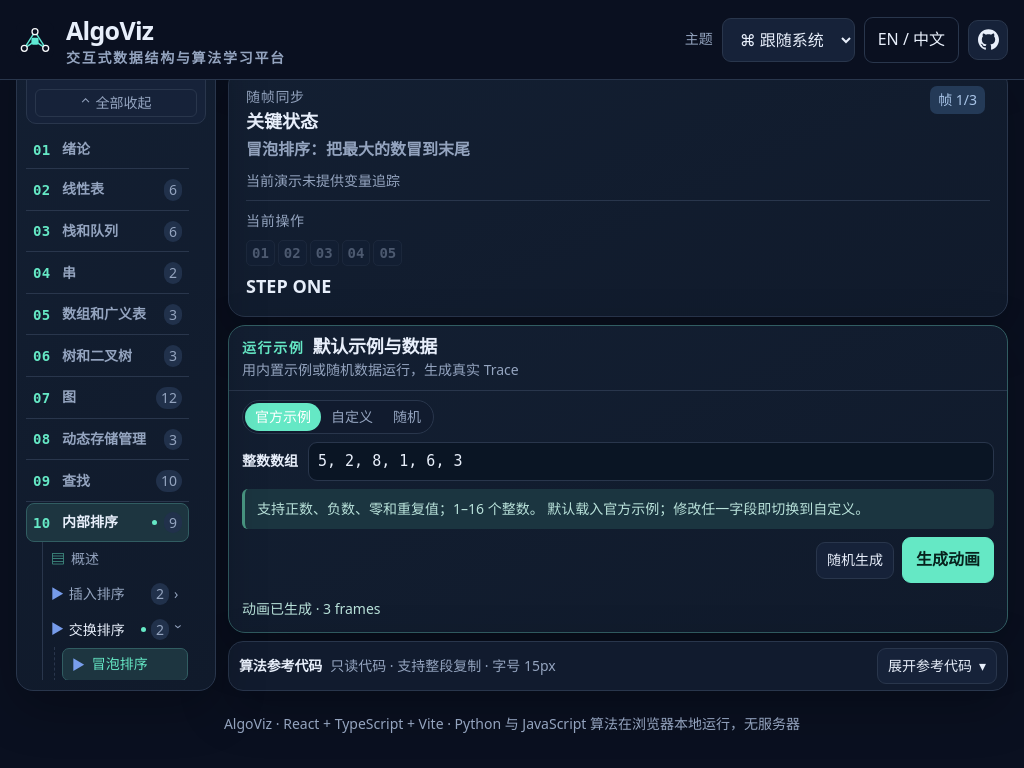
Test: CORE-REFINE-01 shell integration › shows only the trilingual reference panel in the advanced area
The image size is (1024, 768).
(page scrolled)
Click the button with test id "workspace-tabs-toggle". click: (937, 666)
box: [877,648,997,684]
(page scrolled)
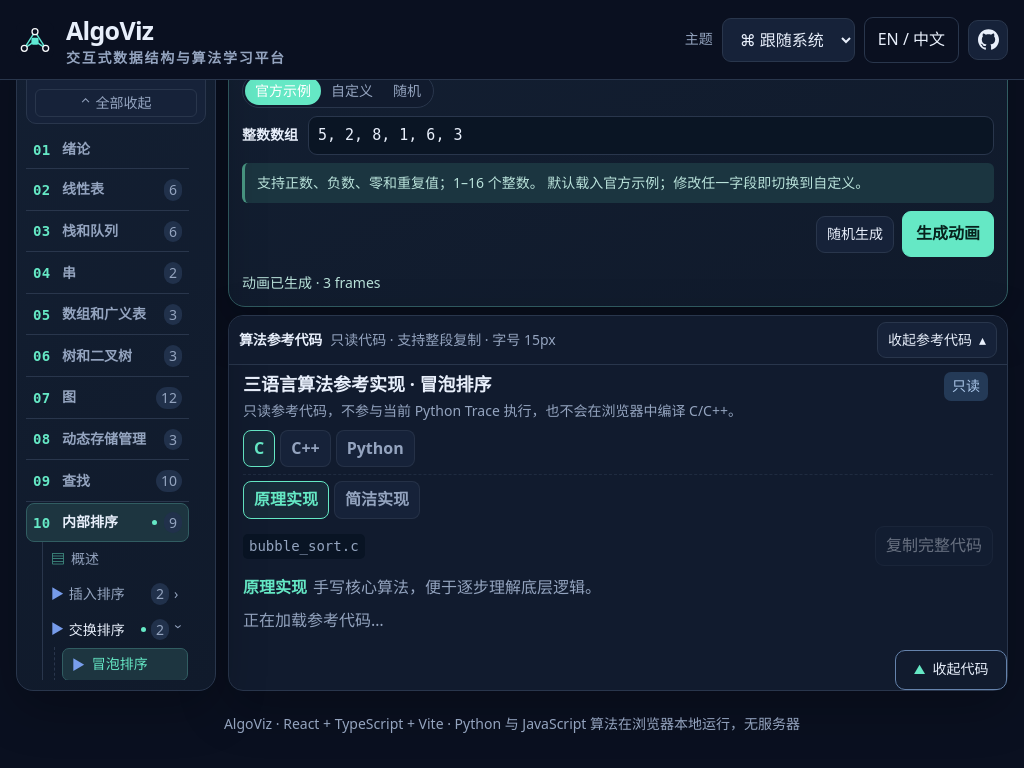
Check: the element with test id "reference-code-panel" is shown, box [243,369,993,634]
Check: the tab with test id "reference-lang-c" is shown, box [243,430,275,467]
Check: the tab with test id "reference-lang-cpp" is shown
Click the tab with test id "reference-lang-cpp". click: (305, 448)
box: [280,430,331,467]
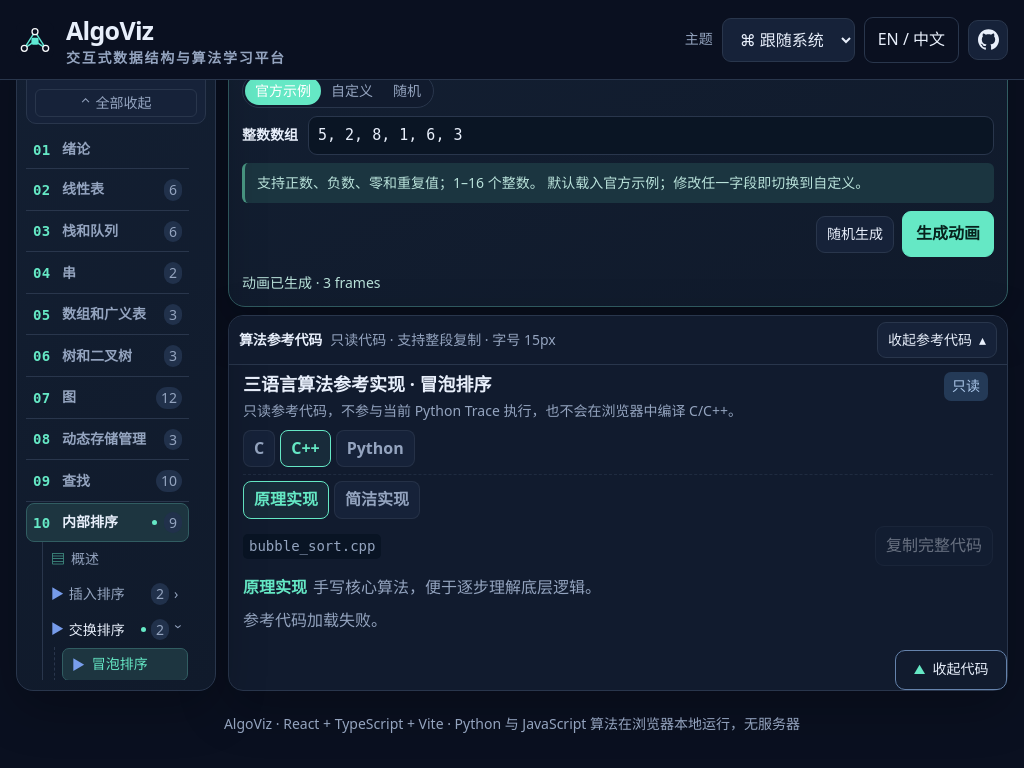
Check: the element with test id "reference-code-panel" has attribute data-language="cpp", box [243,369,993,634]
